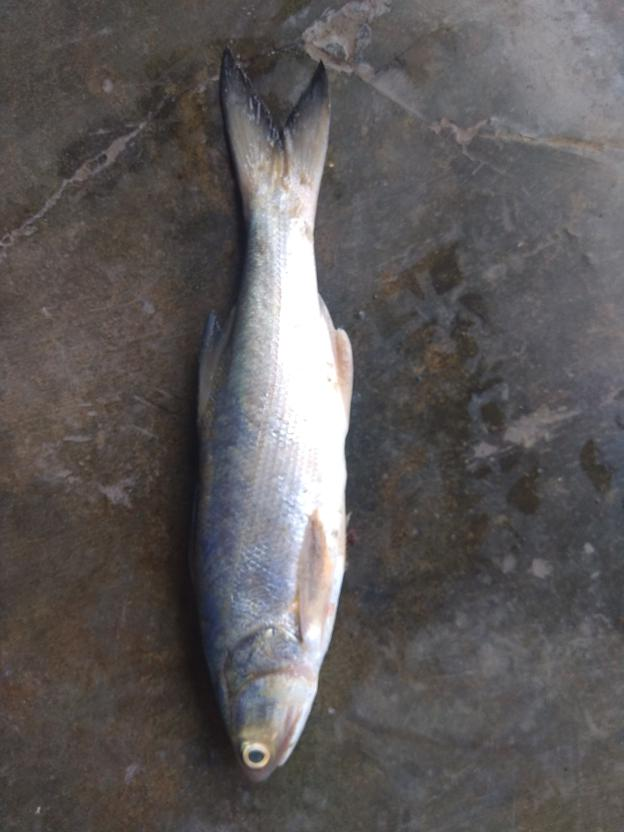Fish head: (203, 625, 334, 786)
Fish tail: (217, 44, 334, 219)
